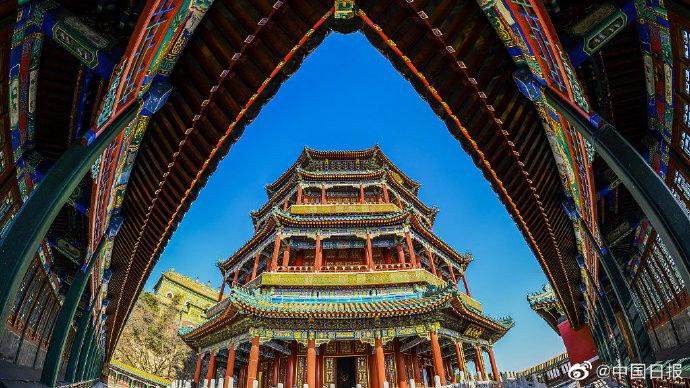buildings: (17, 0, 257, 373), (214, 136, 469, 331)
